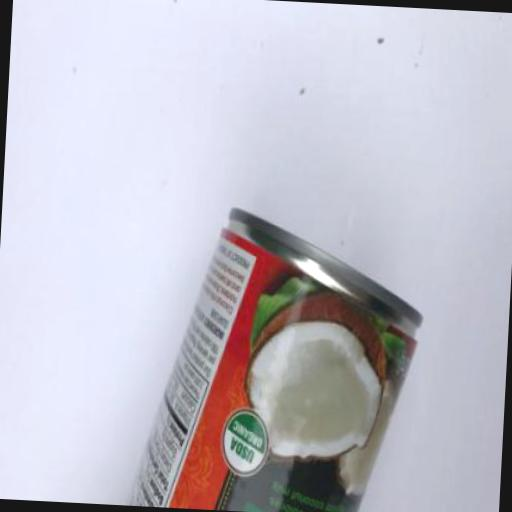metal: (126, 200, 427, 512)
